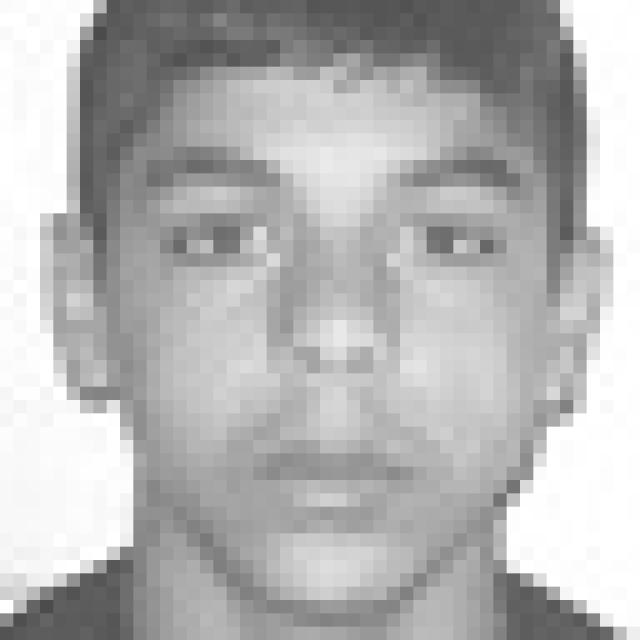neutral: (138, 130, 531, 540)
